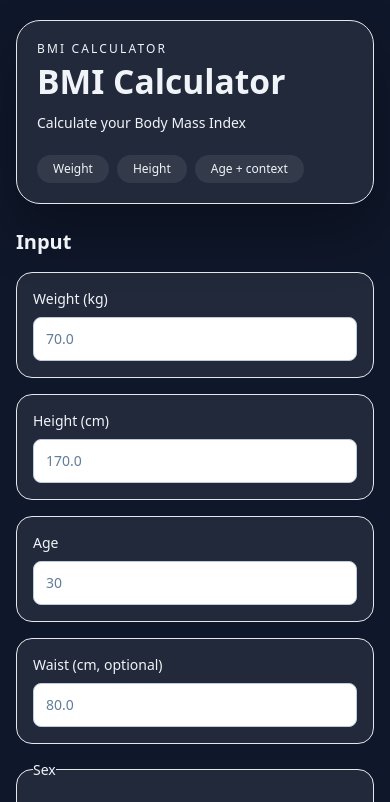
BMICalculatePage › rejects decimal age input instead of truncating it
Type "70" into the field labelled "Weight (kg)". click: (195, 339)
box: [33, 317, 357, 361]
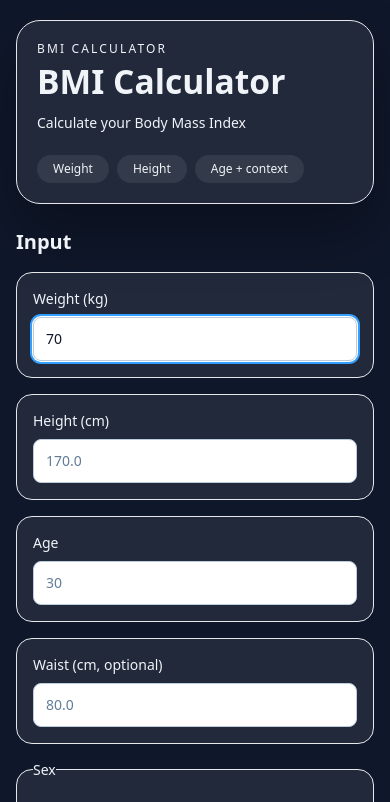
Type "177" into the field labelled "Height (cm)". click: (195, 461)
box: [33, 439, 357, 483]
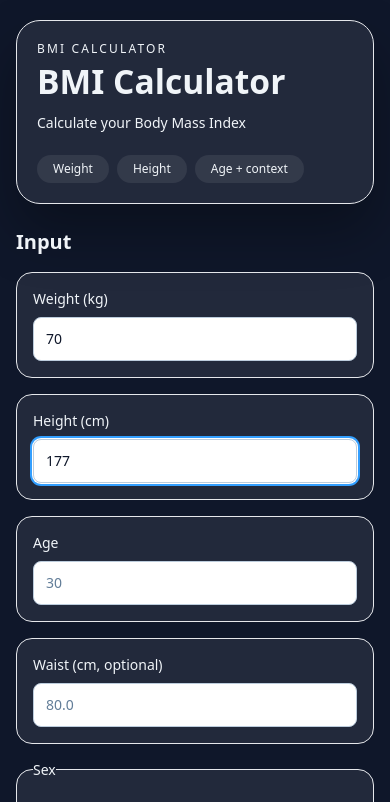
Type "30.7" into the field labelled "Age". click: (195, 583)
box: [33, 561, 357, 605]
(page scrolled)
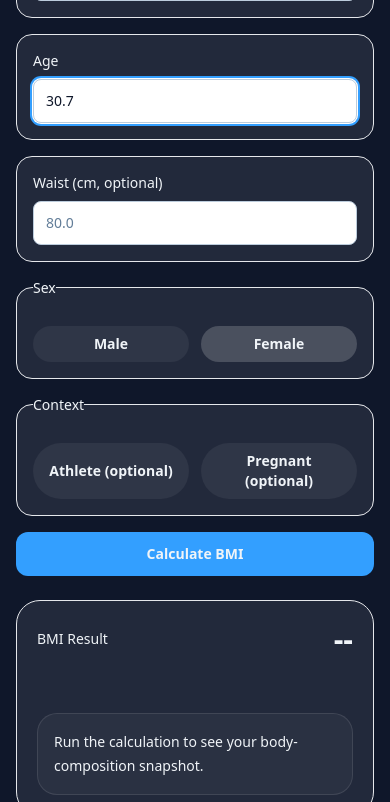
Click the button "Calculate BMI". click: (195, 554)
box: [16, 532, 374, 576]
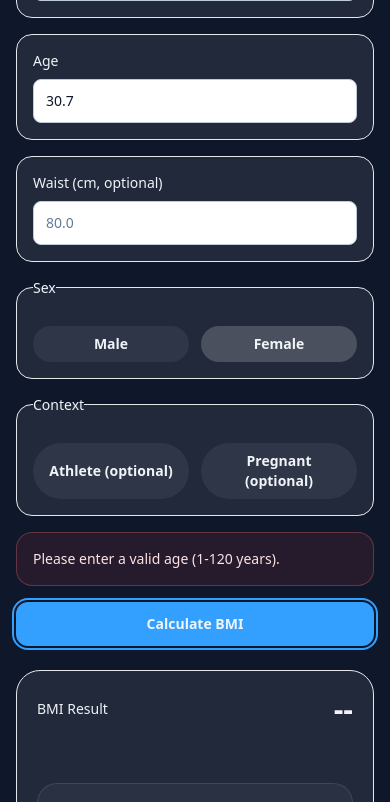
Expected: the message reads "Please enter a valid age (1-120 years).", [33, 549, 280, 568]
